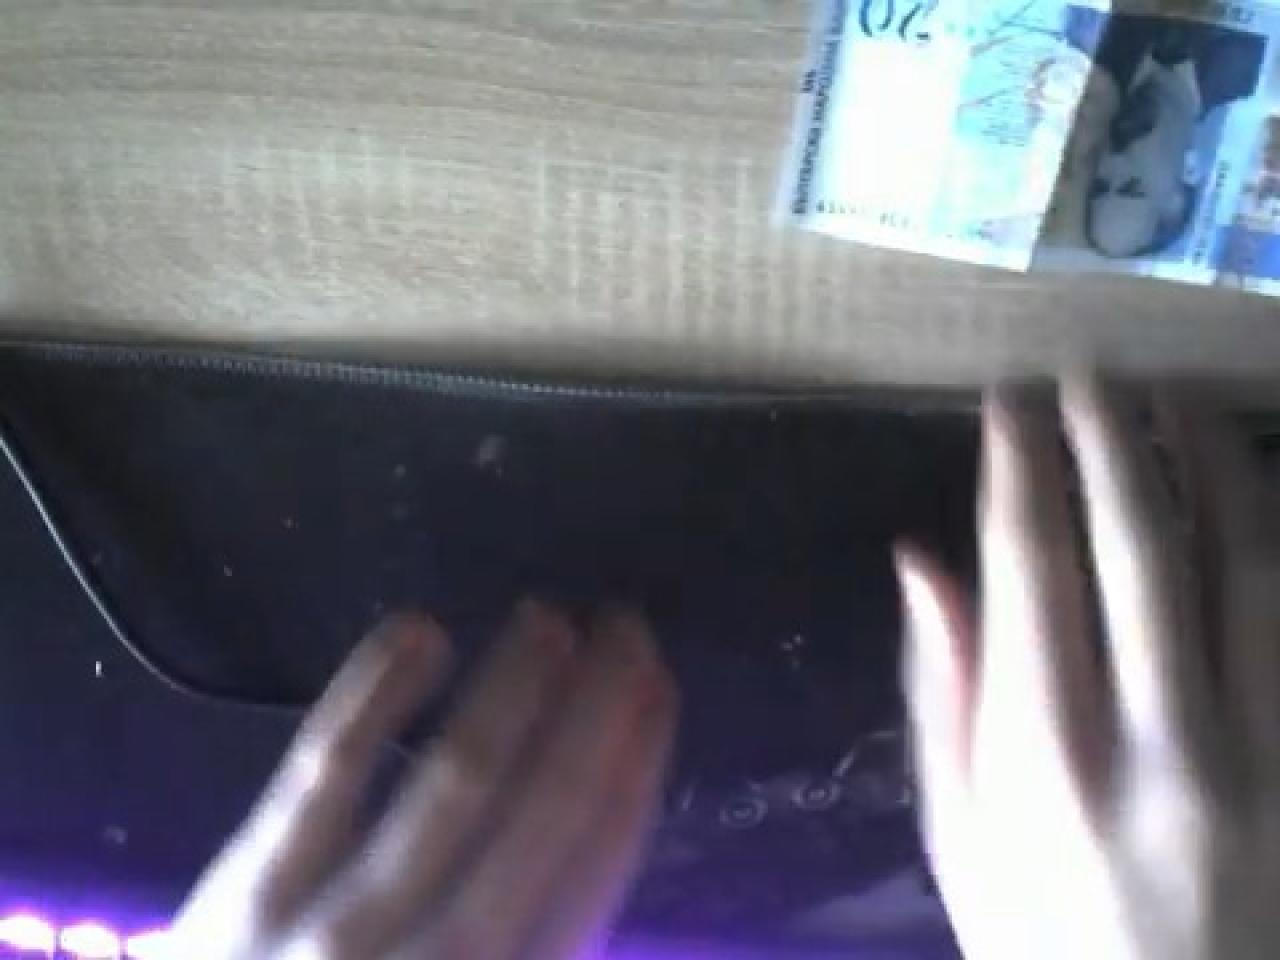20leva: (1066, 11, 1272, 264)
